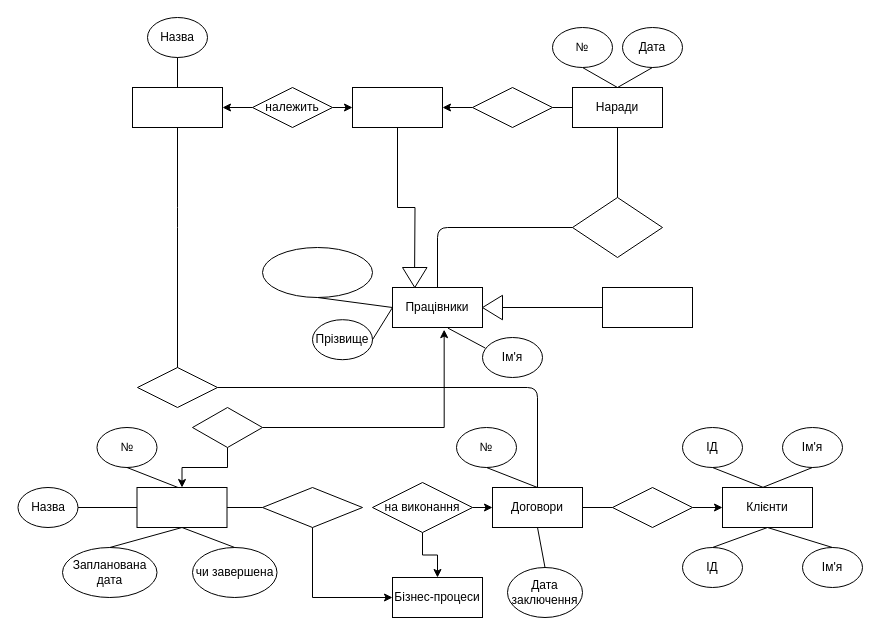
This 880x635 diagram has some shape labels left out. Here are the shapes that lost their labels. From the top down, the box of each, then its label:
(132, 86, 222, 128): Фірма
(352, 86, 442, 128): Директор
(472, 86, 552, 128): проводить
(572, 196, 662, 258): Беруть участь в
(262, 246, 372, 298): Індифікаційний код
(602, 286, 692, 328): Секретар
(136, 366, 218, 408): виконує
(192, 406, 262, 448): Виконують
(136, 486, 227, 528): Події
(262, 486, 362, 528): розділені на
(612, 486, 692, 528): заключають
